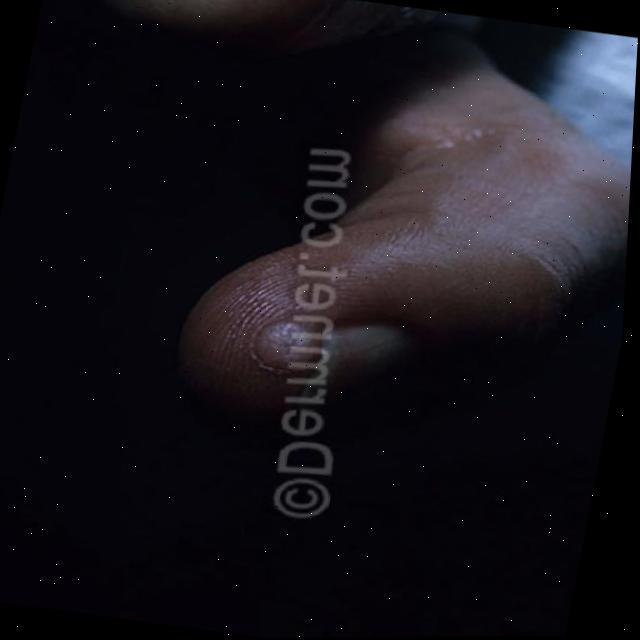Eczema: (249, 300, 320, 370)
